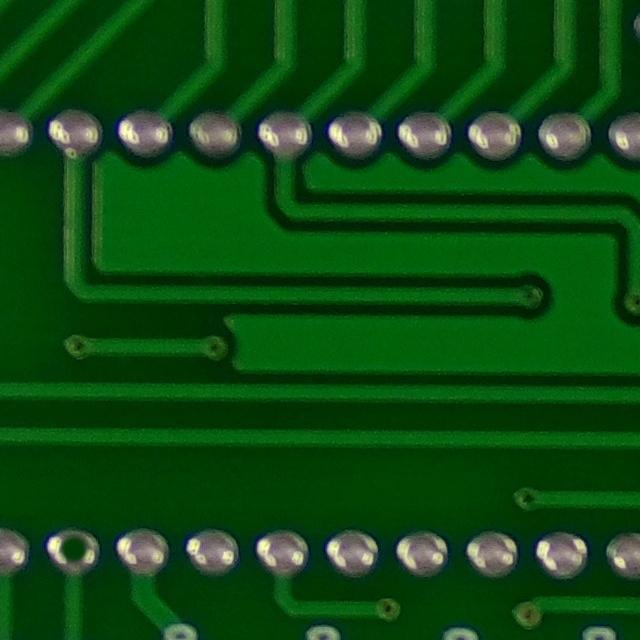missing_hole: (42, 519, 107, 582)
